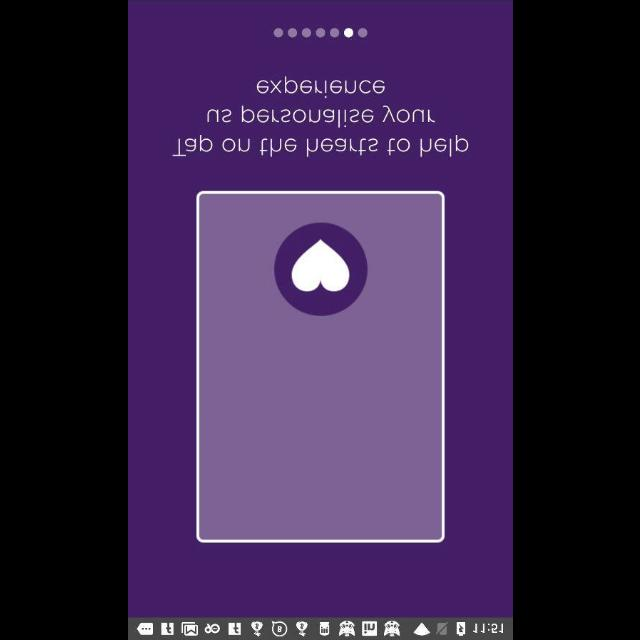image: (196, 191, 444, 543)
pageindicator: (272, 26, 368, 38)
text: (170, 76, 468, 158)
uppertaskbar: (128, 617, 512, 639)
